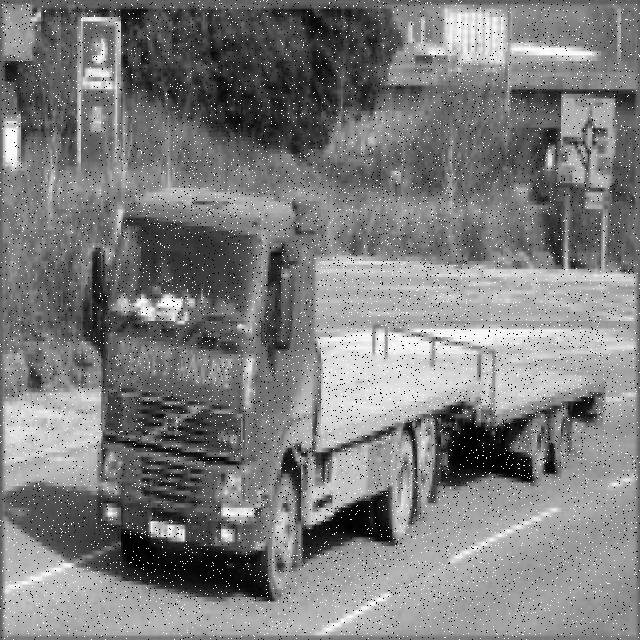Box Truck: (97, 189, 478, 602), (369, 324, 606, 481)
